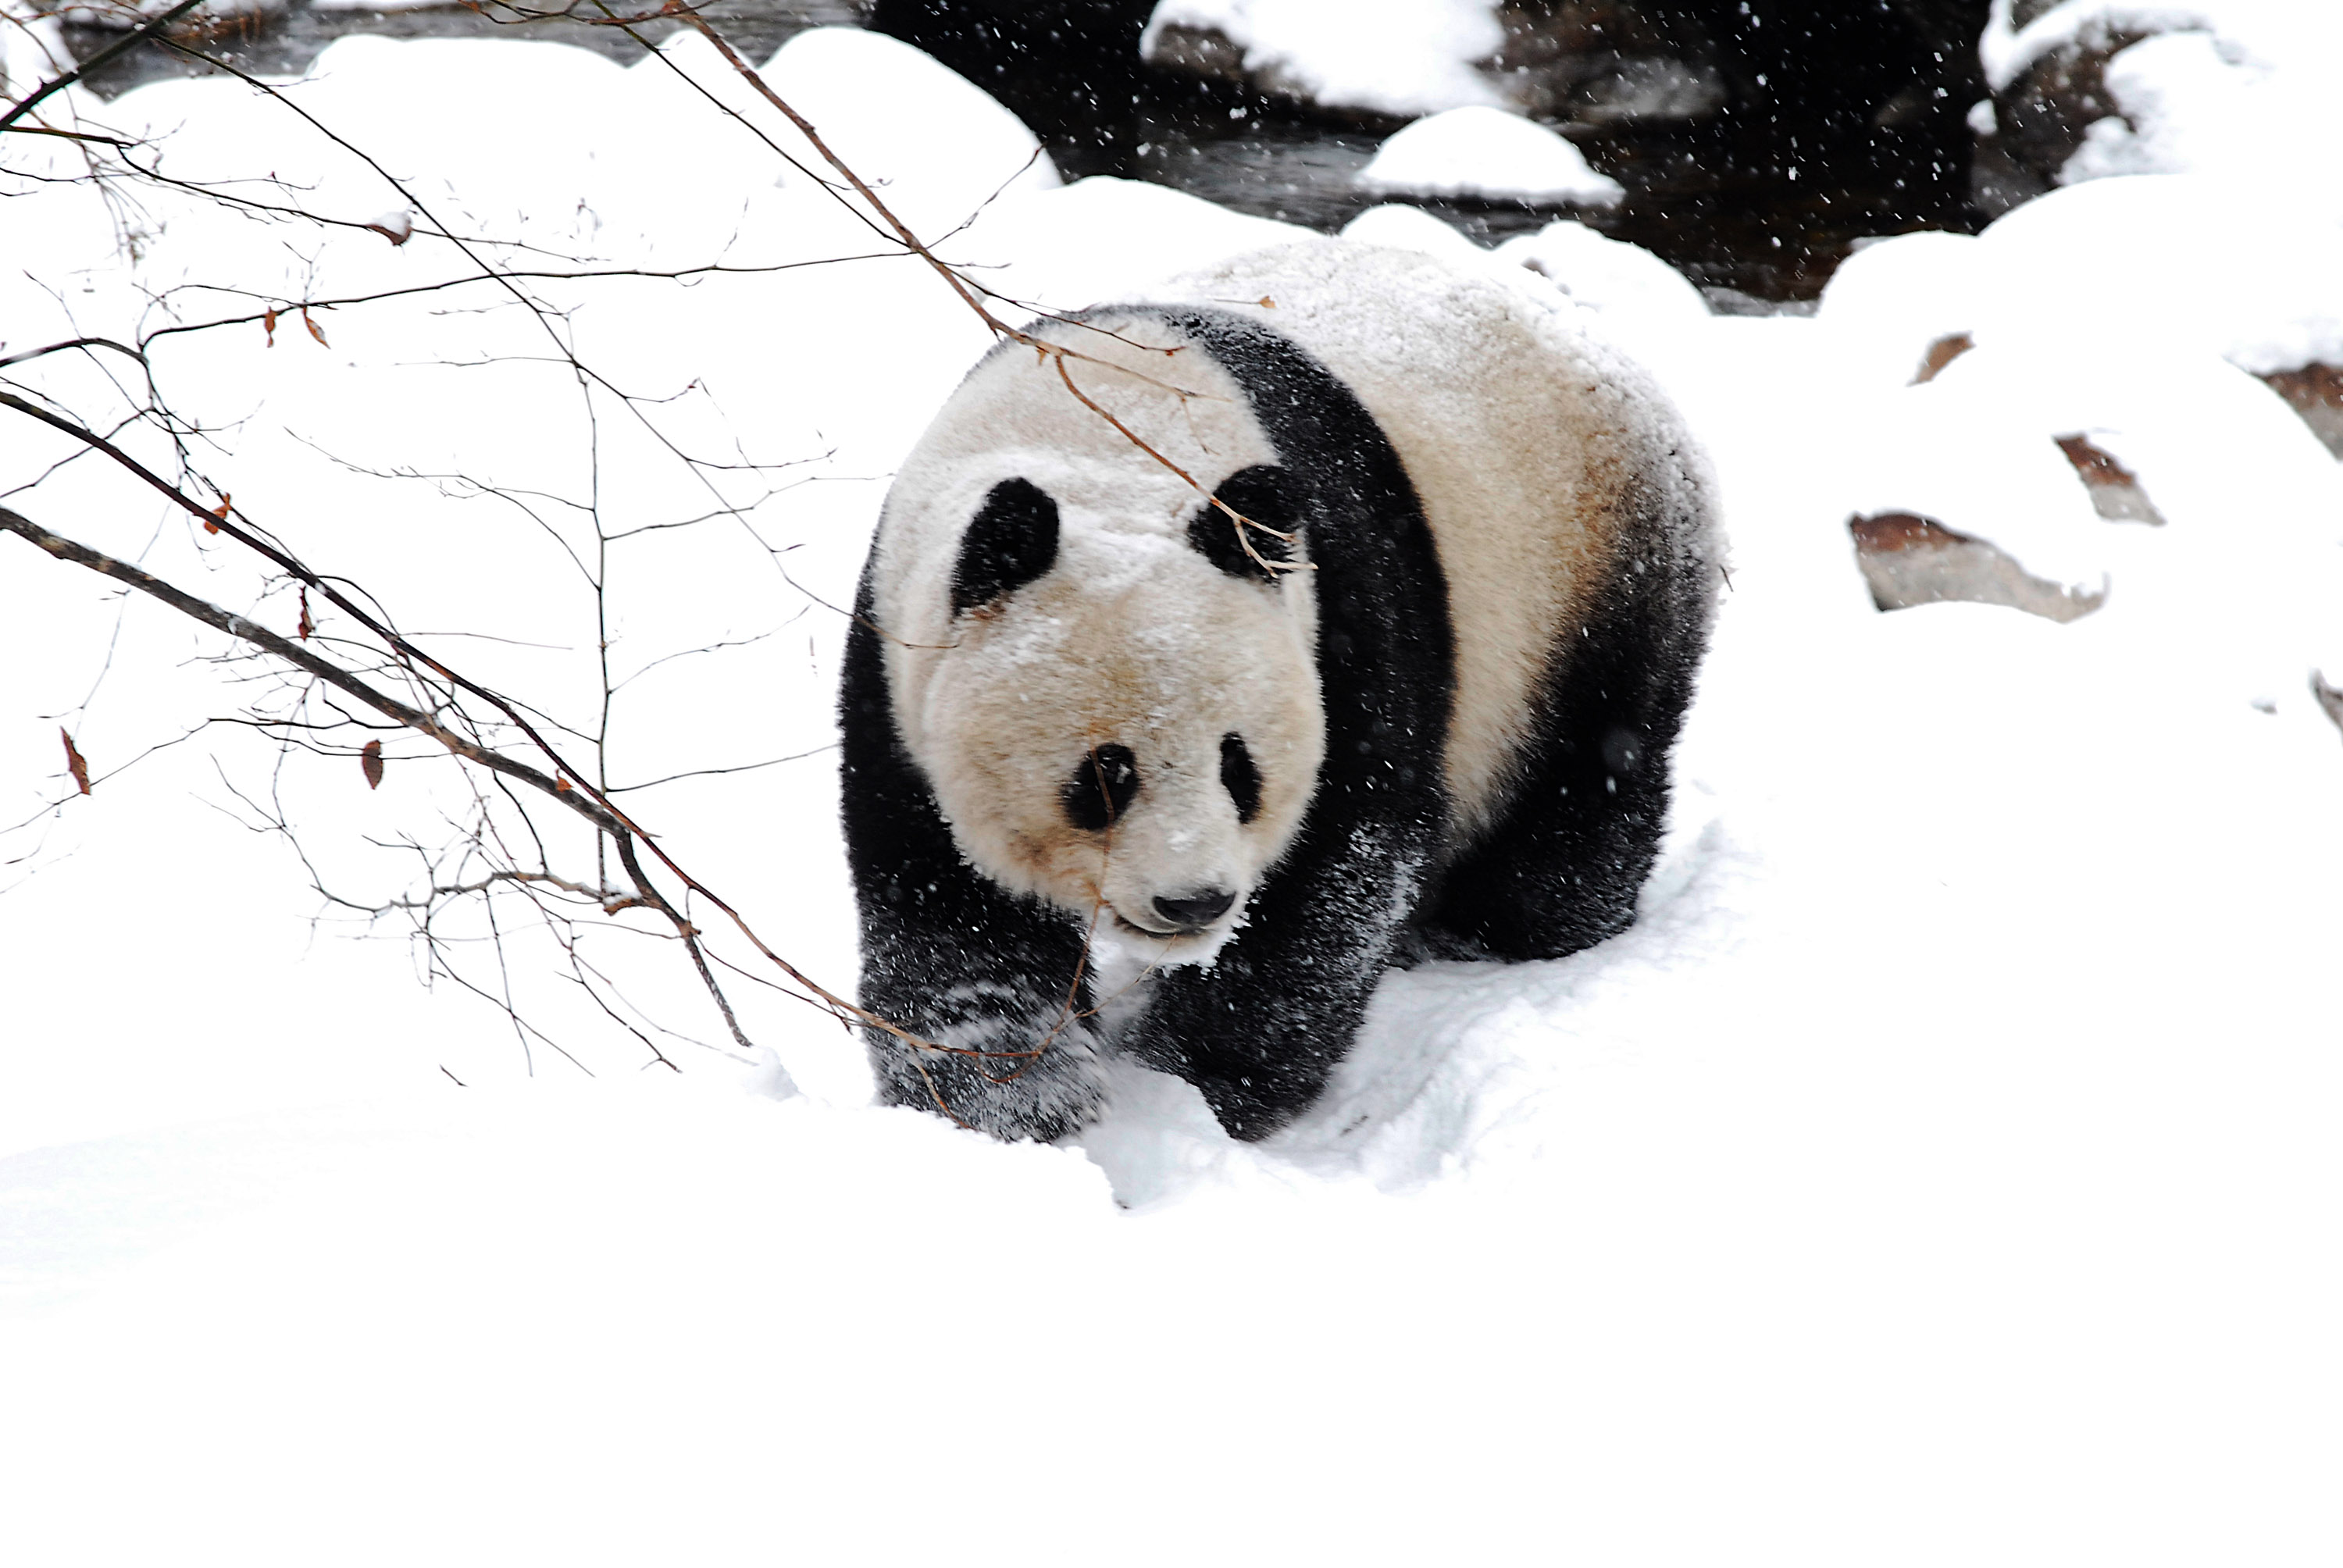panda: (668, 283, 1776, 1167)
